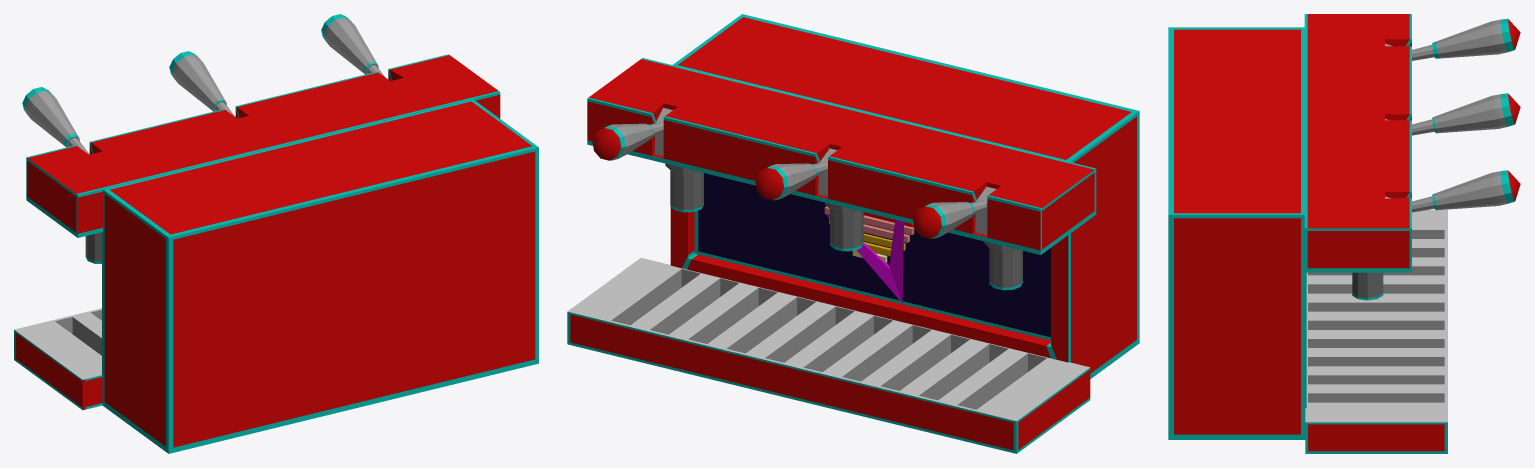
Rendered from Coffee_Machine.fbx.
3 renders of one model, left to right at view 1: azimuth 30°, elevation 25°; view 2: azimuth 150°, elevation 25°; view 3: azimuth 270°, elevation 25°, orthographic. The views are drawn at different scales.
Parts seen in each view (by area): view 1: LOGO1; view 2: LOGO1; view 3: LOGO1.
Boxes of the visible parts, box(x1,y1,x2,y2) form: LOGO1: box(14, 14, 538, 453); LOGO1: box(567, 14, 1139, 453); LOGO1: box(1168, 14, 1520, 453).
Bounding box in the file's own units: 127 × 68.54 × 88.36.
